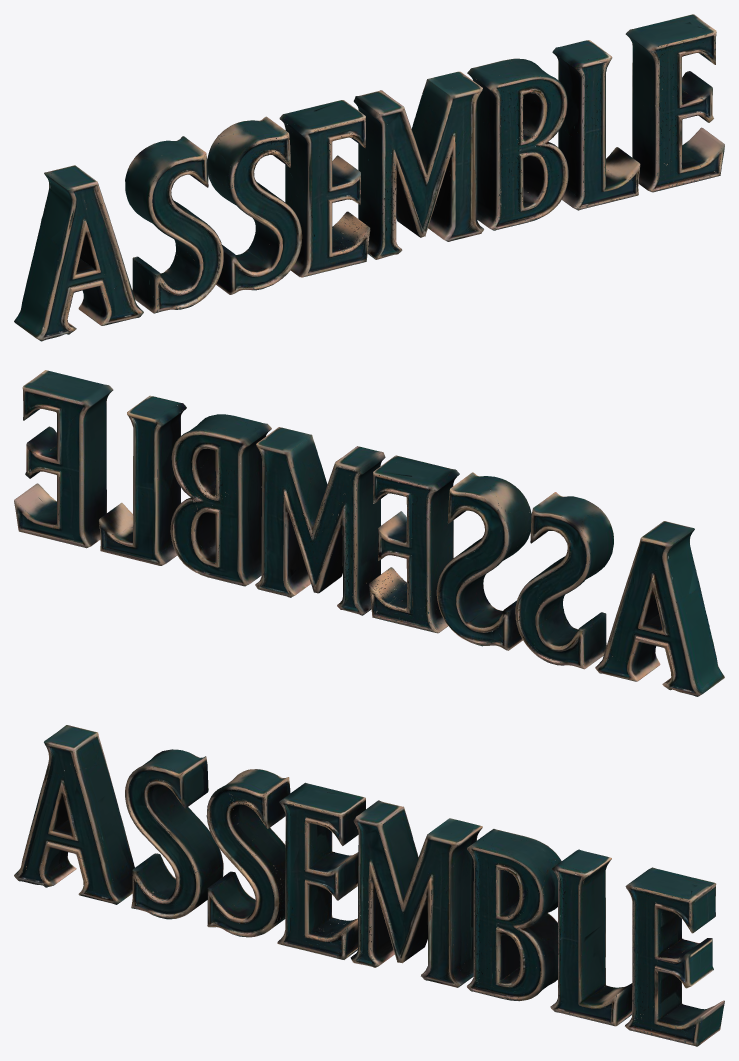
Rendered from wordmark-02-assemble.glb.
The picture shows the model from 3 angles, top to bottom: view 1: azimuth 30°, elevation 25°; view 2: azimuth 150°, elevation 25°; view 3: azimuth 330°, elevation 25°; orthographic projection.
Parts seen in each view (by area): view 1: wordmark-assemble; view 2: wordmark-assemble; view 3: wordmark-assemble.
Part boxes in pixels (x1=…): wordmark-assemble: x1=14, y1=14, x2=724, y2=341; wordmark-assemble: x1=14, y1=370, x2=724, y2=696; wordmark-assemble: x1=14, y1=725, x2=724, y2=1046.
Size of the model in its own units: 2 by 0.4214 by 0.1292.
1 material, 1 textured.
